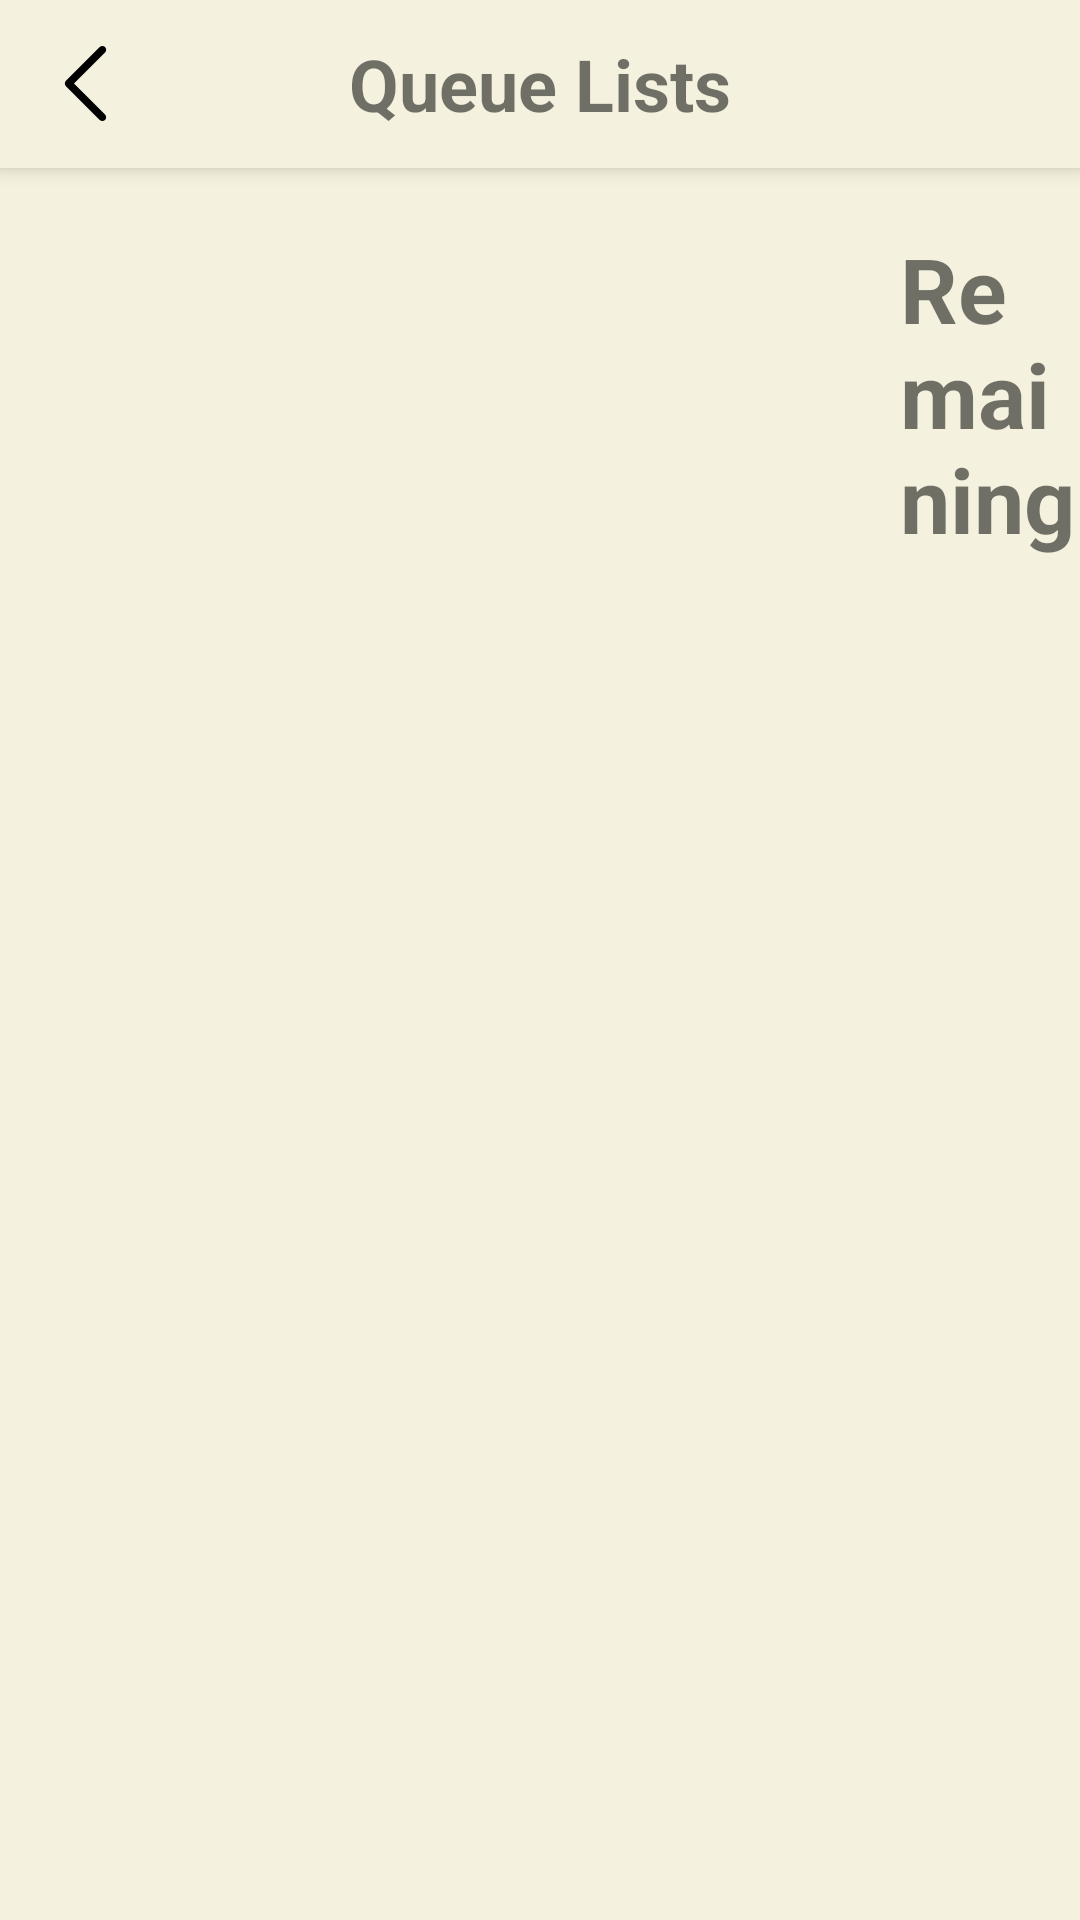

Locate icon controls on the screen. Image size 1080px×1920px, boxes as [x1, y1, x2, y2].
back: [64, 46, 106, 121]
